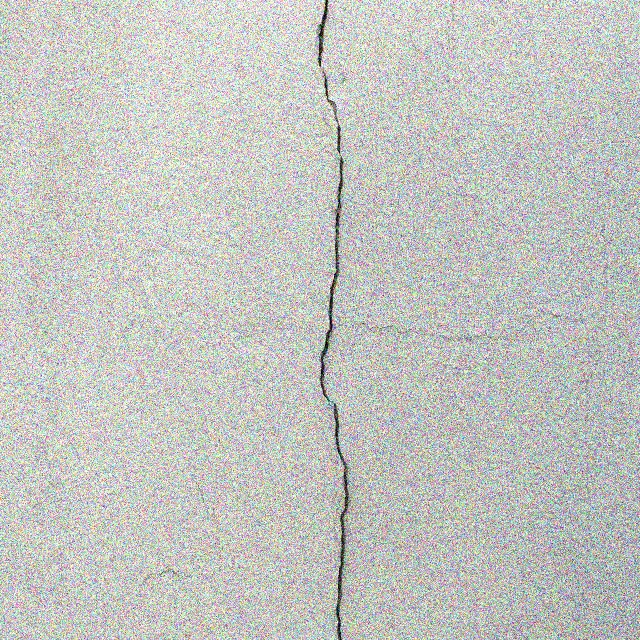SurfaceCrack: (266, 0, 401, 639)
